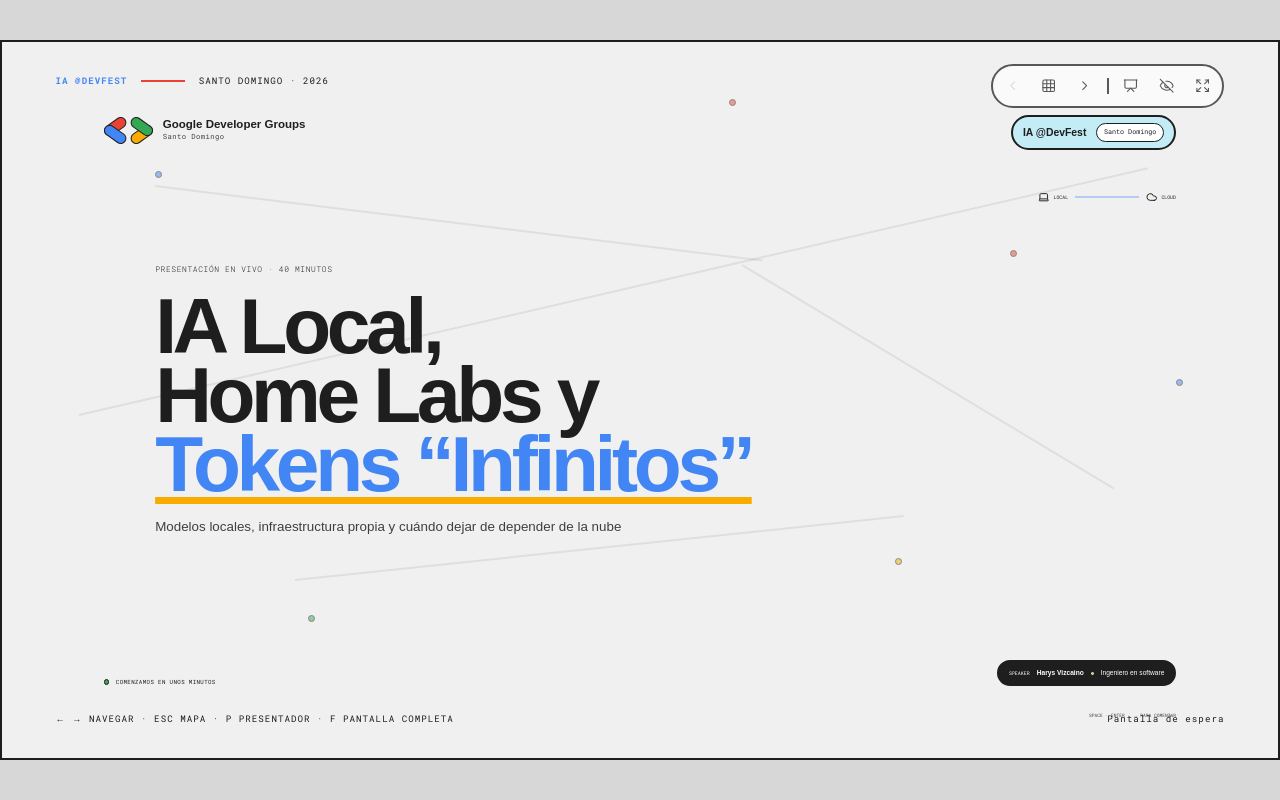
Scenario: PresentationShell › opens the overview and jumps directly to a selected scene
Press Escape
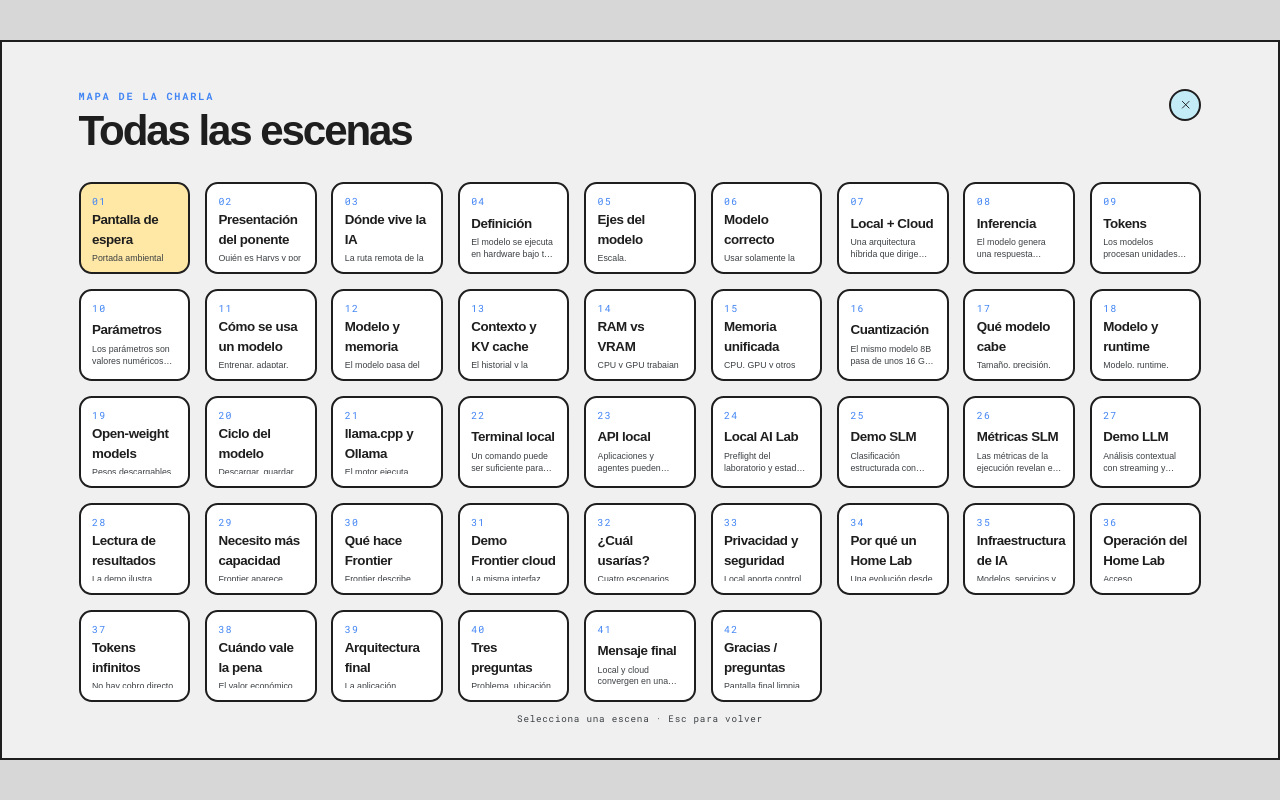
Now the dialog "Todas las escenas" is shown
Now the button "Modelo correcto" is shown
Click the button "Modelo correcto": (766, 228) left=710, top=182, right=822, bottom=274
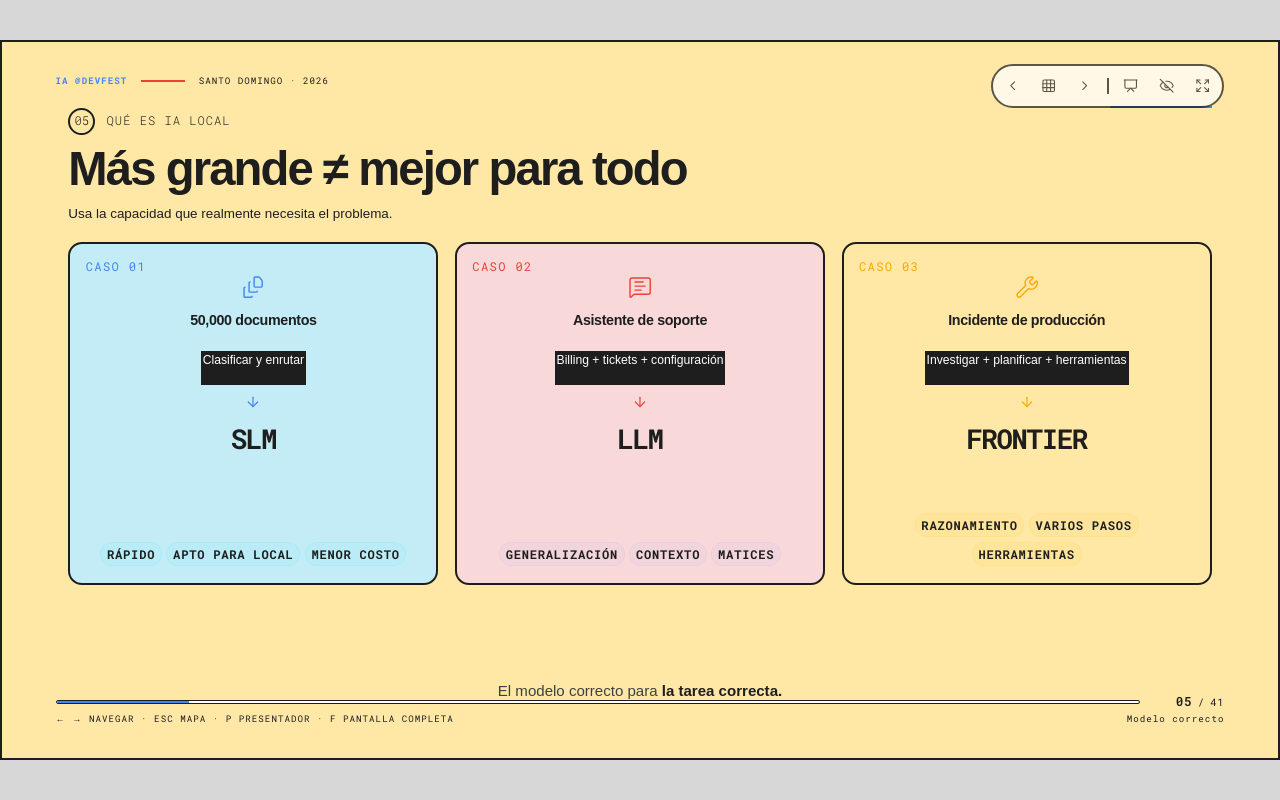
Now the heading "Más grande ≠ mejor para todo" is shown, box left=68, top=142, right=687, bottom=195
Now the dialog is gone
